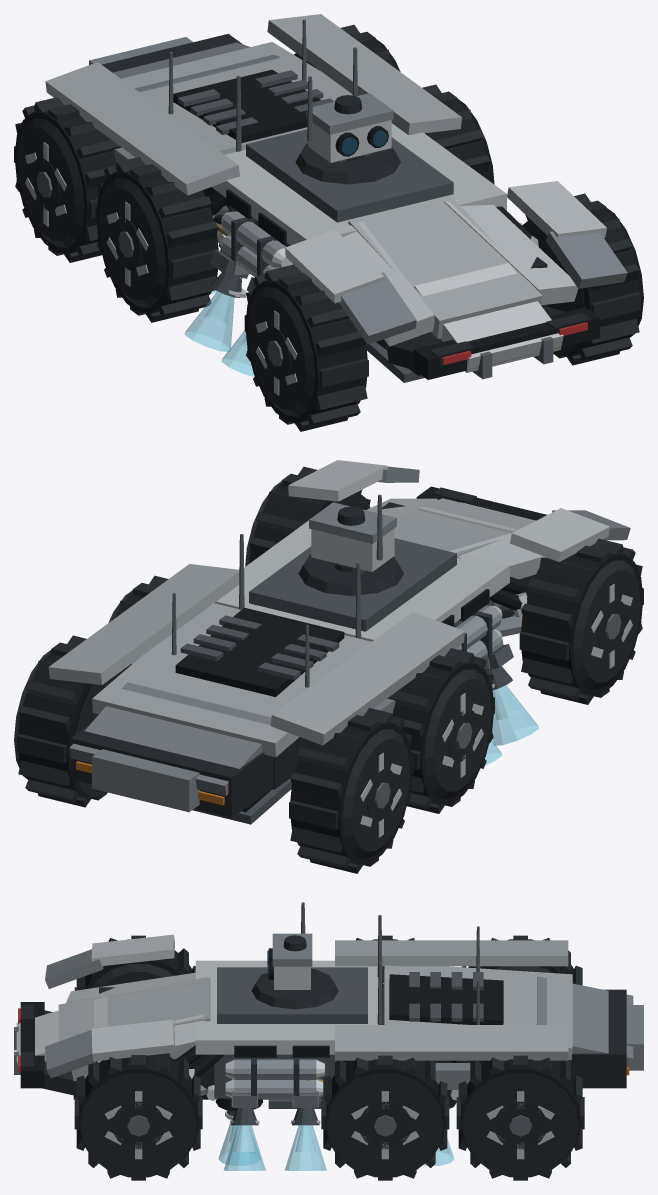
Rendered from r47x_recon_rover_d0_lod0.meshopt.glb.
3 renders of one model, top to bottom at view 1: azimuth 30°, elevation 25°; view 2: azimuth 150°, elevation 25°; view 3: azimuth 270°, elevation 25°, orthographic. The views are drawn at different scales.
Parts seen in each view (by area): view 1: CHASSIS_ARMOR_BODY, WHEEL_SET_L, WHEEL_SET_R, SENSOR_MAST_HEAD, COLD_GAS_PLUMES, LATERAL_THRUSTER_CLUSTER; view 2: CHASSIS_ARMOR_BODY, WHEEL_SET_L, WHEEL_SET_R, SENSOR_MAST_HEAD, COLD_GAS_PLUMES, SUSPENSION_ARMS_L, LATERAL_THRUSTER_CLUSTER; view 3: CHASSIS_ARMOR_BODY, WHEEL_SET_R, WHEEL_SET_L, COLD_GAS_PLUMES, SENSOR_MAST_HEAD, LATERAL_THRUSTER_CLUSTER, SUSPENSION_ARMS_R.
Part boxes in pixels (box(x1,y1,x2,y2)): CHASSIS_ARMOR_BODY: box(45, 14, 627, 382); WHEEL_SET_L: box(14, 97, 368, 431); WHEEL_SET_R: box(294, 24, 643, 365); SENSOR_MAST_HEAD: box(306, 76, 393, 162); COLD_GAS_PLUMES: box(184, 290, 254, 376); LATERAL_THRUSTER_CLUSTER: box(210, 245, 255, 297); CHASSIS_ARMOR_BODY: box(48, 460, 630, 824); WHEEL_SET_L: box(289, 538, 643, 873); WHEEL_SET_R: box(14, 466, 370, 807); SENSOR_MAST_HEAD: box(309, 494, 396, 574); COLD_GAS_PLUMES: box(485, 685, 538, 765); SUSPENSION_ARMS_L: box(489, 576, 529, 636); LATERAL_THRUSTER_CLUSTER: box(484, 639, 513, 689); CHASSIS_ARMOR_BODY: box(14, 915, 643, 1111); WHEEL_SET_R: box(74, 1053, 584, 1180); WHEEL_SET_L: box(74, 935, 582, 990); COLD_GAS_PLUMES: box(218, 1120, 453, 1170); SENSOR_MAST_HEAD: box(267, 902, 312, 990); LATERAL_THRUSTER_CLUSTER: box(230, 1091, 320, 1125); SUSPENSION_ARMS_R: box(175, 1045, 483, 1100).
Bounding box in the file's own units: 2.43 × 1.79 × 4.75.
